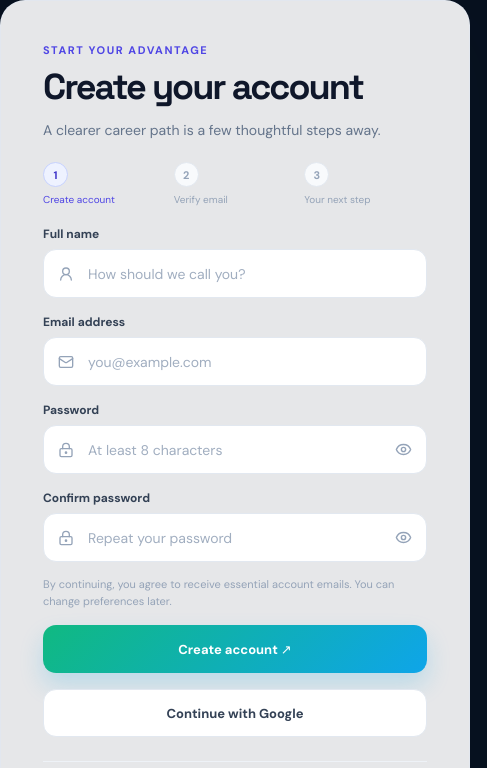
SignupPage › blocks mismatched passwords client-side
The width and height of the screenshot is (487, 768).
Type "Ava Stone" into the field labelled "Full name" at (250, 274), box [74, 252, 426, 296]
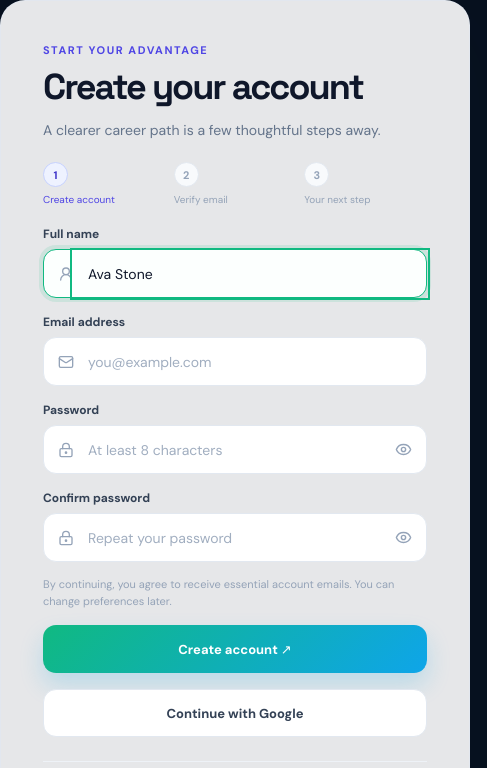
Type "ava@example.com" into the field labelled "Email address" at (250, 362), box [74, 340, 426, 384]
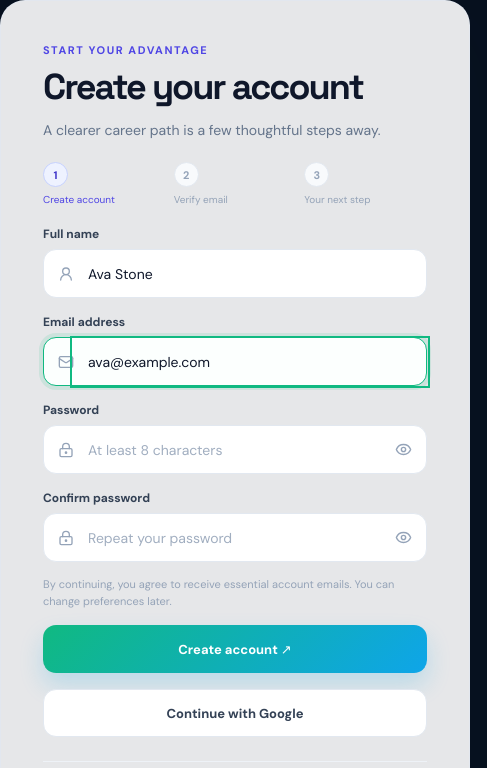
Type "password123" into the password field labelled "Password" at (250, 450), box [74, 428, 426, 472]
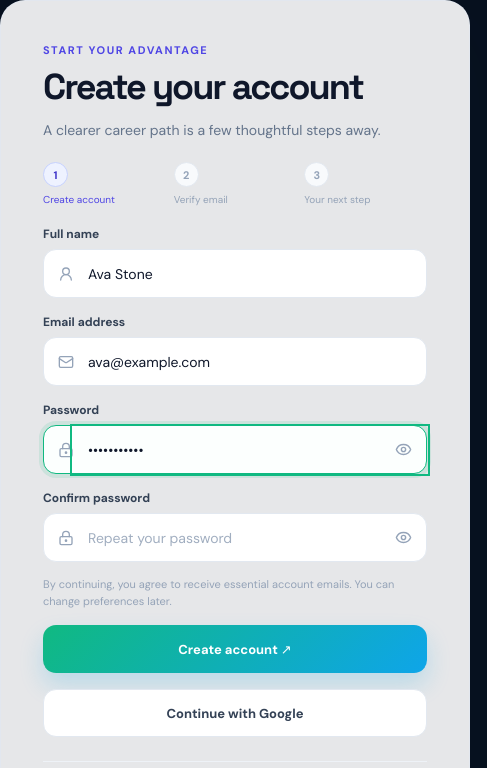
Type "different123" into the password field labelled "Confirm password" at (250, 538), box [74, 516, 426, 560]
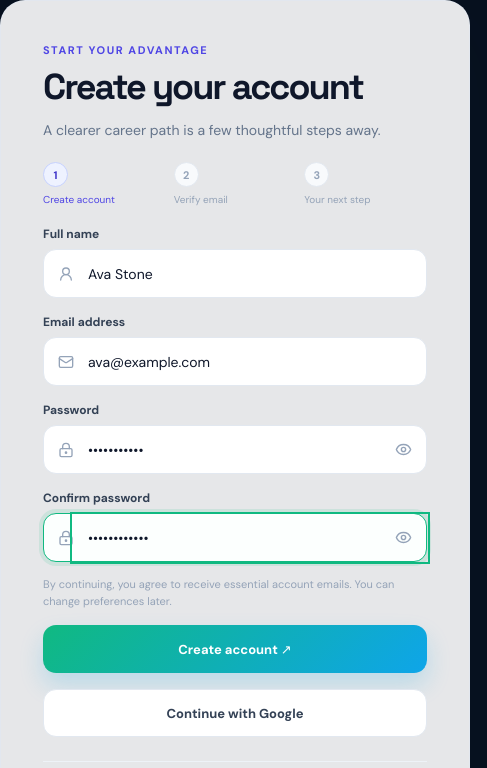
Click the button "Create account ↗" at (235, 649), box [43, 625, 427, 673]
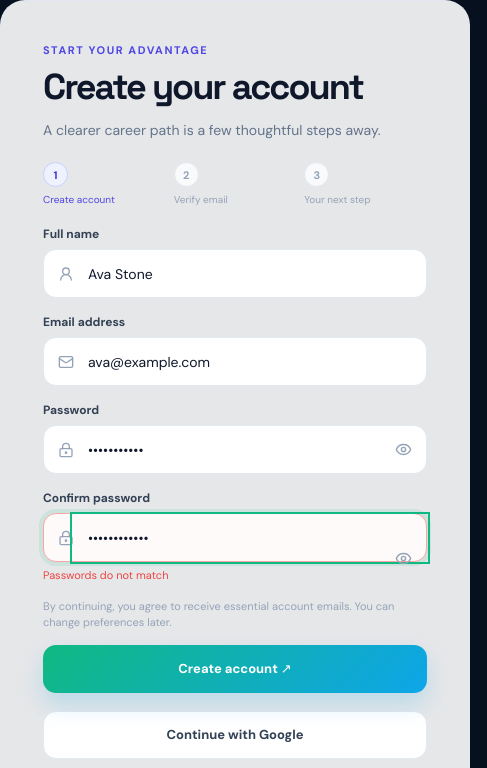
Check: the text "Passwords do not match" is shown, box [43, 568, 168, 582]
